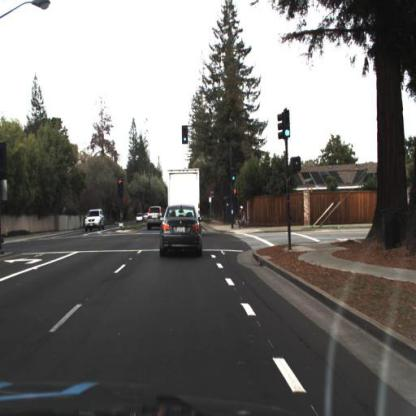car: (160, 205, 204, 259), (165, 162, 206, 210), (83, 206, 105, 237), (85, 207, 106, 233), (146, 205, 165, 233)
pedestrian: (238, 206, 248, 231)
trafficLight-Green: (280, 107, 292, 143), (180, 121, 191, 148), (182, 125, 190, 146), (231, 170, 237, 191)
trafficLight-GreenLeft: (277, 108, 292, 139)
trafficLight-RedLeft: (117, 178, 125, 200), (117, 178, 125, 196)
truck: (167, 168, 201, 219)
